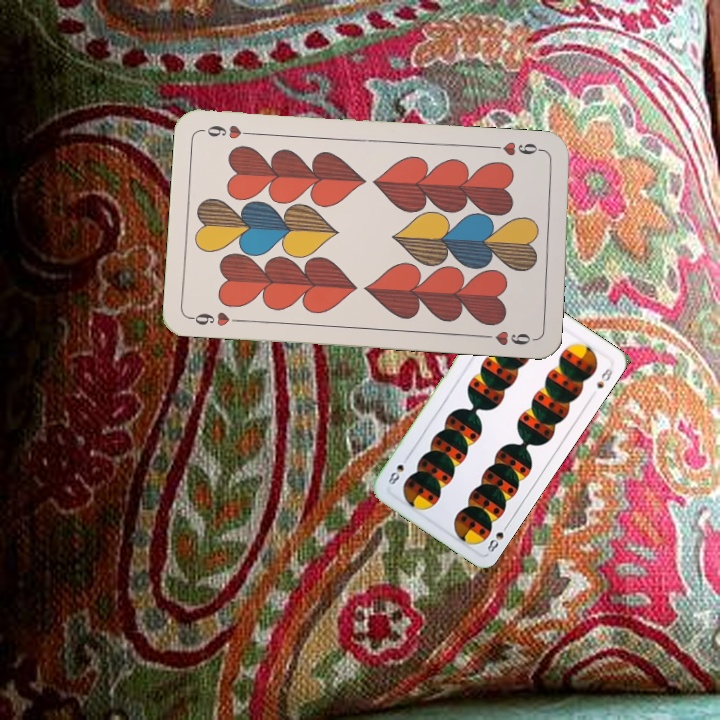H9: (488, 137, 547, 159), (187, 308, 246, 329)
S8: (483, 519, 512, 556)
